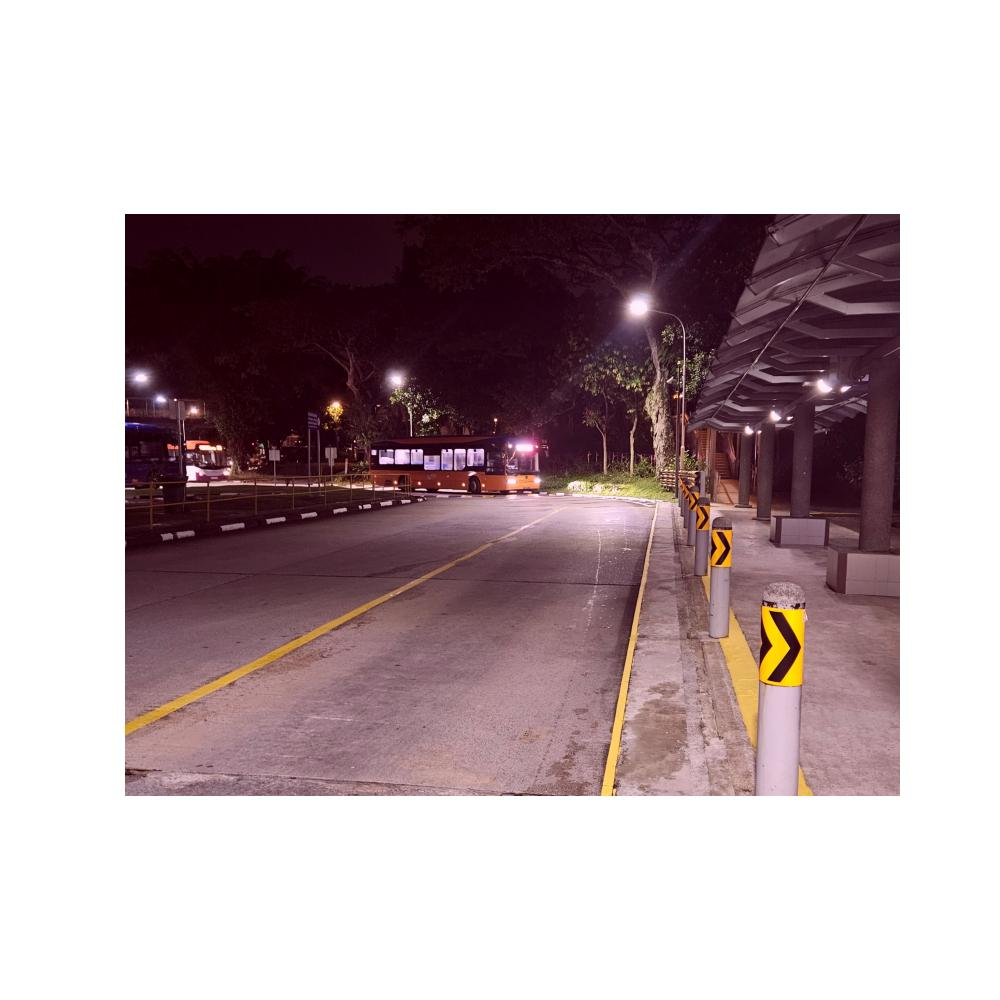bus: (365, 431, 542, 498), (172, 437, 230, 484)
